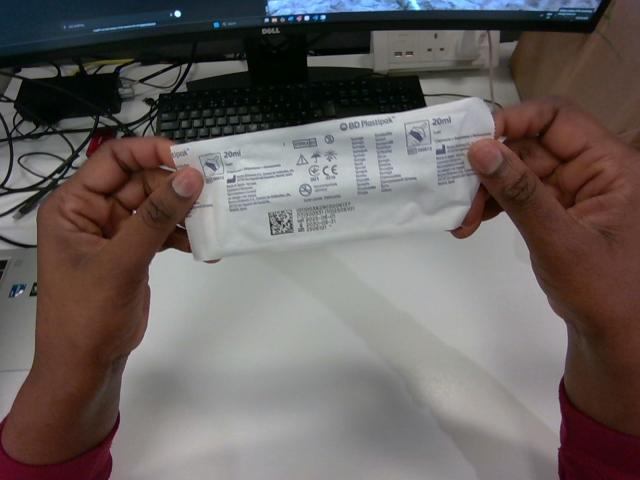syringe: (171, 98, 494, 260)
